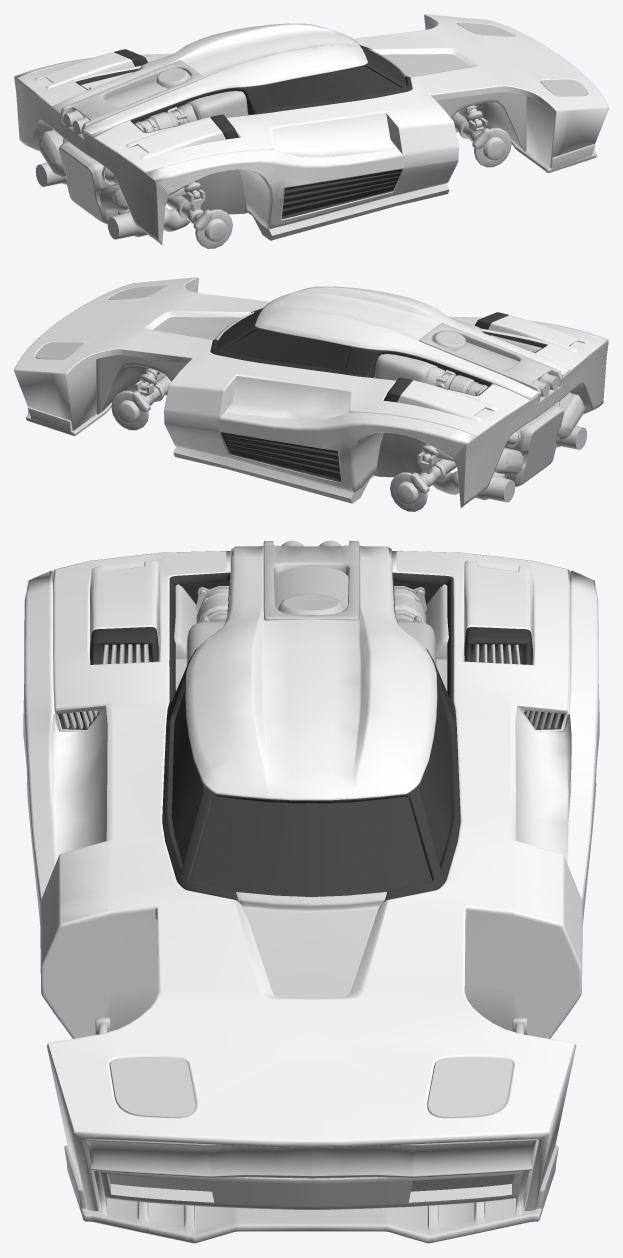
Rendered from car_breakout.glb.
3 renders of one model, top to bottom at view 1: azimuth 30°, elevation 25°; view 2: azimuth 150°, elevation 25°; view 3: azimuth 270°, elevation 25°, orthographic. The views are drawn at different scales.
Parts seen in each view (by area): view 1: Breakout_Body, Breakout_Chassis; view 2: Breakout_Body, Breakout_Chassis; view 3: Breakout_Body, Breakout_Chassis.
Boxes of the visible parts, x1,y1,x2,y2 form: Breakout_Body: (14, 14, 608, 229); Breakout_Chassis: (14, 22, 596, 248); Breakout_Body: (14, 277, 608, 492); Breakout_Chassis: (26, 285, 608, 511); Breakout_Body: (23, 545, 599, 1210); Breakout_Chassis: (62, 540, 560, 1243).
Size of the model in its own units: 1.49 by 0.4064 by 0.7522.
2 materials, 1 textured.
